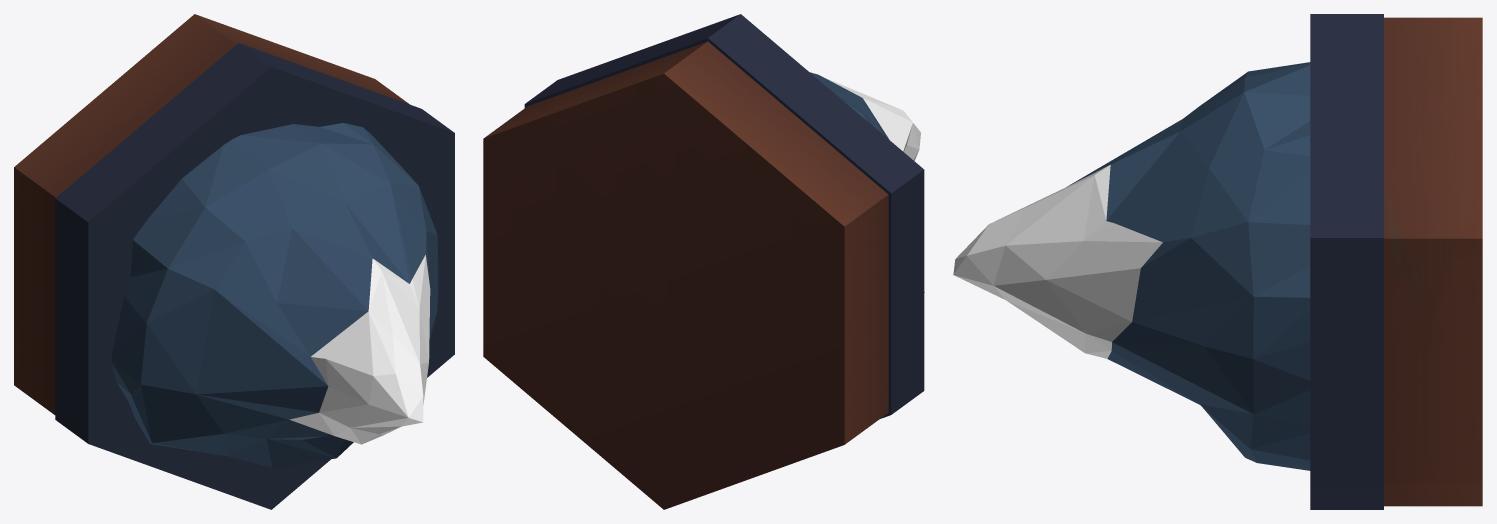
Rendered from Mountain1.fbx.
3 renders of one model, left to right at view 1: azimuth 30°, elevation 25°; view 2: azimuth 150°, elevation 25°; view 3: azimuth 270°, elevation 25°, orthographic. The views are drawn at different scales.
Visible parts, largest first — view 1: Mountain1; view 2: Mountain1; view 3: Mountain1.
Boxes of the visible parts, x1=… form: Mountain1: x1=14, y1=14, x2=454, y2=509; Mountain1: x1=483, y1=14, x2=924, y2=509; Mountain1: x1=953, y1=14, x2=1482, y2=509.
Size of the model in its own units: 172 by 199 by 192.
